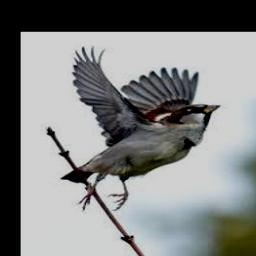Sparrow: (62, 45, 221, 210)
